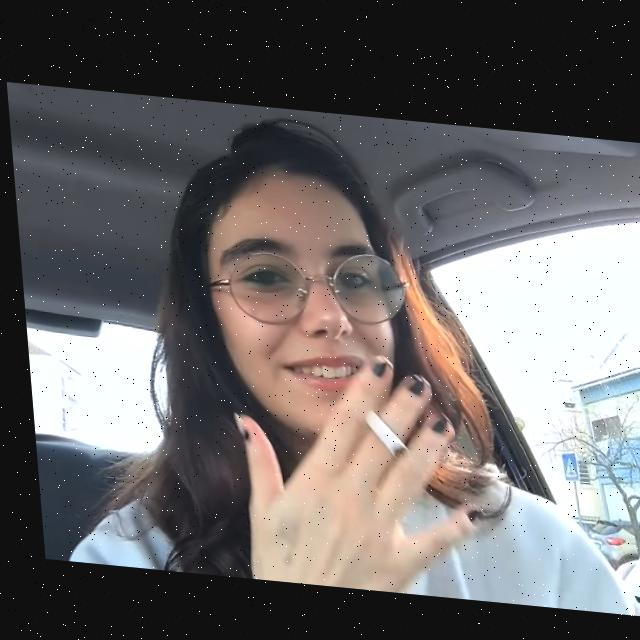cigarette: (358, 403, 404, 455)
